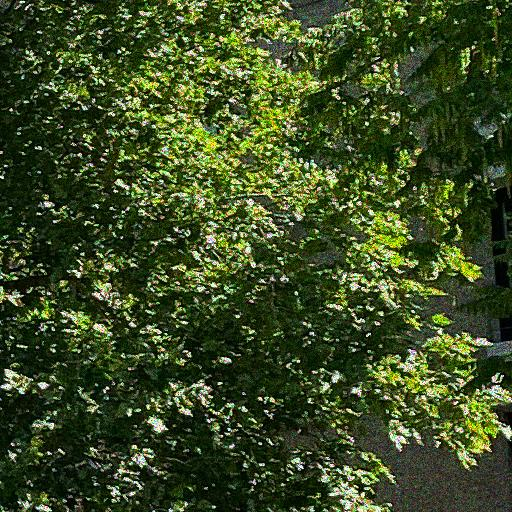tree: (1, 1, 512, 512), (278, 1, 511, 400)
